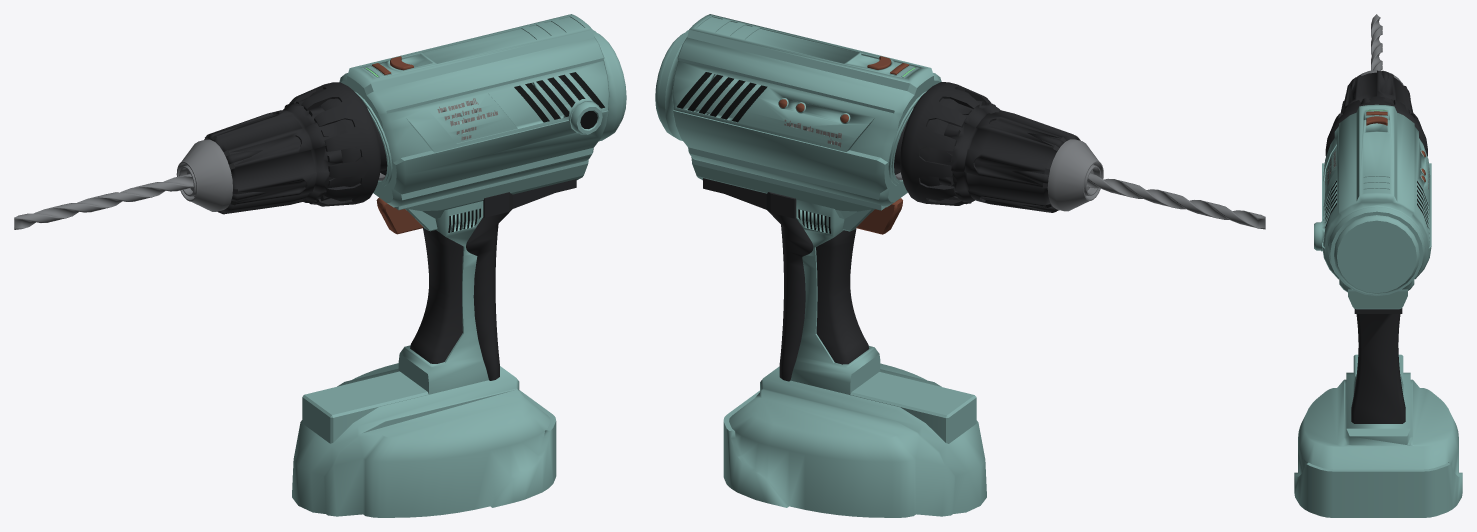
File: S2_drill.fbx
The picture shows the model from 3 angles, left to right: view 1: azimuth 30°, elevation 25°; view 2: azimuth 150°, elevation 25°; view 3: azimuth 270°, elevation 25°; orthographic projection. The views are drawn at different scales.
Parts seen in each view (by area): view 1: G-OuterShell.005, G-OuterShell.007, G-OuterShell, G-OuterShell.008, G-Intersection.001, G-Object.191, G-Object.183, G-OuterShell.006, G-OuterShell.001, G-Object.185, G-Object.189; view 2: G-OuterShell.005, G-OuterShell.007, G-OuterShell, G-OuterShell.008, G-Intersection.001, G-Object.191, G-OuterShell.006, G-Object.183, G-OuterShell.001, G-Object.185, G-Object.189; view 3: G-OuterShell.007, G-OuterShell.005, G-Object.185, G-Intersection.001, G-OuterShell, G-OuterShell.006, G-OuterShell.001, G-OuterShell.008.
Boxes of the visible parts, x1,y1,x2,y2 form: G-OuterShell.005: (339, 14, 616, 207); G-OuterShell.007: (292, 363, 556, 517); G-OuterShell: (204, 82, 380, 214); G-OuterShell.008: (302, 201, 488, 443); G-Intersection.001: (466, 179, 576, 380); G-Object.191: (410, 228, 463, 363); G-Object.183: (176, 139, 232, 211); G-OuterShell.006: (394, 159, 588, 218); G-OuterShell.001: (14, 173, 193, 229); G-Object.185: (593, 30, 626, 138); G-Object.189: (376, 197, 423, 234); G-OuterShell.005: (665, 14, 941, 207); G-OuterShell.007: (723, 363, 986, 517); G-OuterShell: (900, 82, 1080, 212); G-OuterShell.008: (790, 199, 976, 443); G-Intersection.001: (703, 178, 813, 381); G-Object.191: (816, 228, 869, 364); G-OuterShell.006: (691, 157, 886, 218); G-Object.183: (1047, 139, 1103, 211); G-OuterShell.001: (1086, 173, 1265, 229); G-Object.185: (655, 30, 688, 137); G-Object.189: (856, 198, 902, 234); G-OuterShell.007: (1294, 372, 1462, 517); G-OuterShell.005: (1314, 104, 1431, 292); G-Object.185: (1328, 207, 1425, 295); G-Intersection.001: (1351, 308, 1405, 423); G-OuterShell: (1325, 70, 1427, 156); G-OuterShell.006: (1348, 289, 1407, 309); G-OuterShell.001: (1371, 14, 1382, 70); G-OuterShell.008: (1353, 354, 1403, 394).
Bounding box in the file's own units: 32.01 × 21.84 × 9.58.
